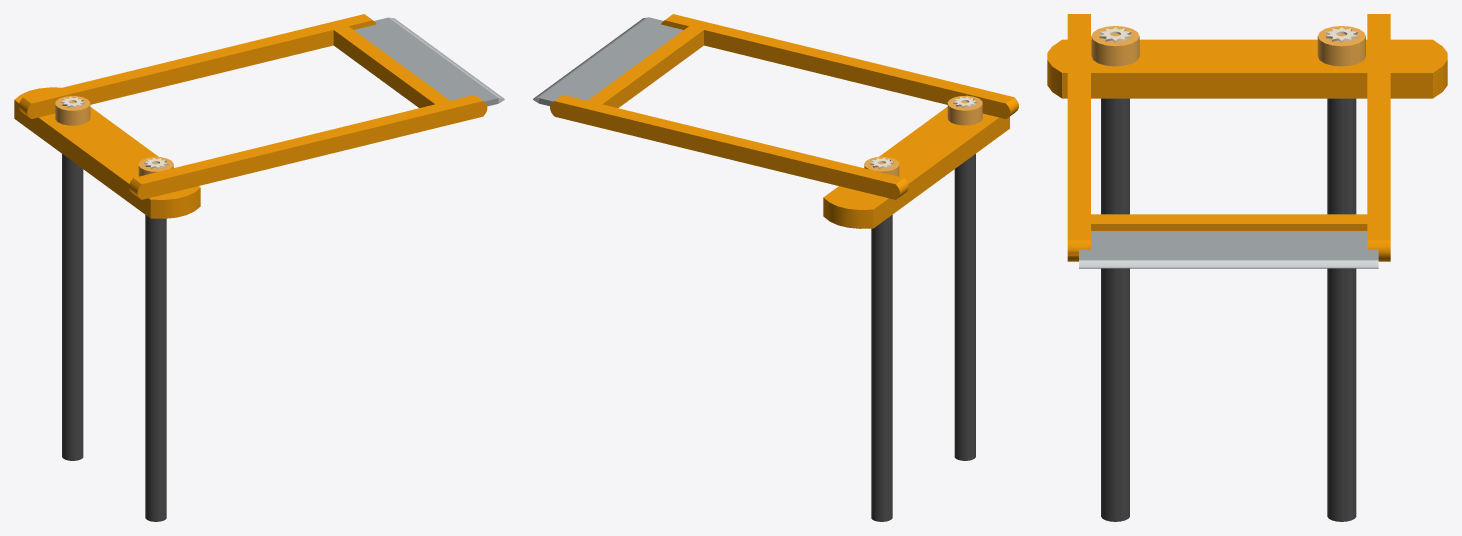
Rendered from trap_08.fbx.
3 views of the same model, side by side, from view 1: azimuth 30°, elevation 25°; view 2: azimuth 150°, elevation 25°; view 3: azimuth 270°, elevation 25° (orthographic). The views are drawn at different scales.
Visible parts, largest first — view 1: trap_08_asset, trap_08; view 2: trap_08_asset, trap_08; view 3: trap_08, trap_08_asset.
Part boxes in pixels (x1=…): trap_08_asset: x1=19, y1=14, x2=504, y2=199; trap_08: x1=14, y1=87, x2=200, y2=521; trap_08_asset: x1=533, y1=14, x2=1018, y2=199; trap_08: x1=823, y1=95, x2=1009, y2=521; trap_08: x1=1047, y1=26, x2=1447, y2=521; trap_08_asset: x1=1067, y1=14, x2=1390, y2=268.
Size of the model in its own units: 2186 by 1995 by 1503.
1 material, 1 textured.
